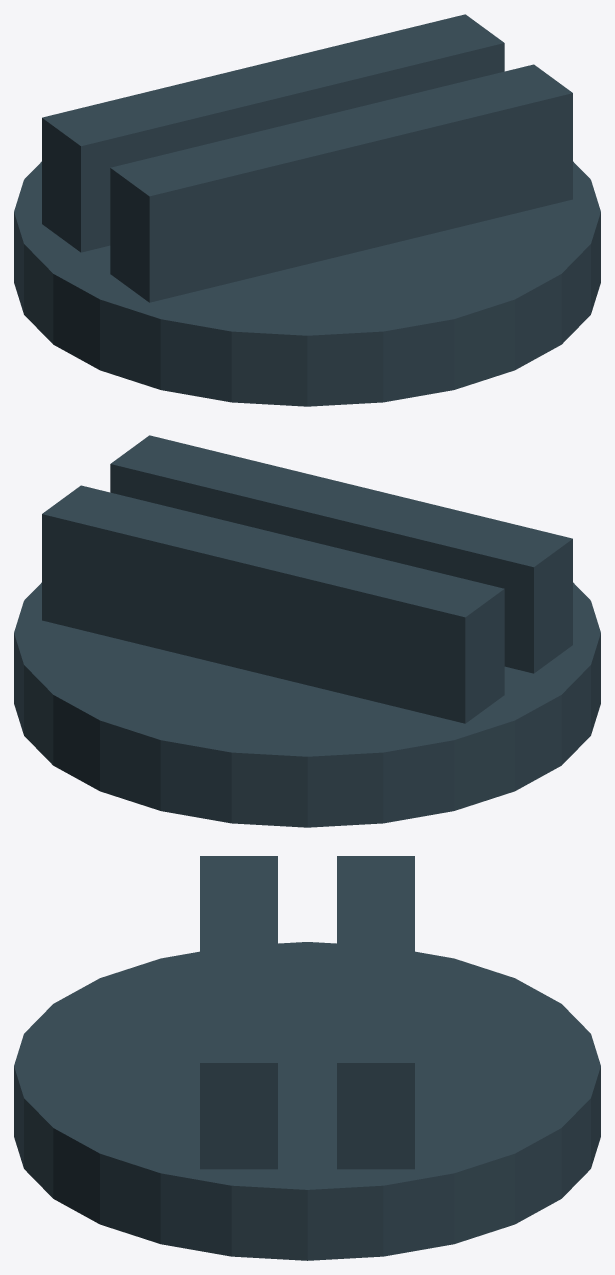
Rendered from tabletop-game-components-miniature-slot-base-edd70115__20872.glb.
3 renders of one model, top to bottom at view 1: azimuth 30°, elevation 25°; view 2: azimuth 150°, elevation 25°; view 3: azimuth 270°, elevation 25°, orthographic.
Parts seen in each view (by area): view 1: miniature-slot-base; view 2: miniature-slot-base; view 3: miniature-slot-base.
Part boxes in pixels (box(x1,y1,x2,y2)): miniature-slot-base: box(14, 14, 600, 406); miniature-slot-base: box(14, 435, 600, 827); miniature-slot-base: box(14, 856, 600, 1260).
Bounding box in the file's own units: 0.03 × 0.01 × 0.03.
